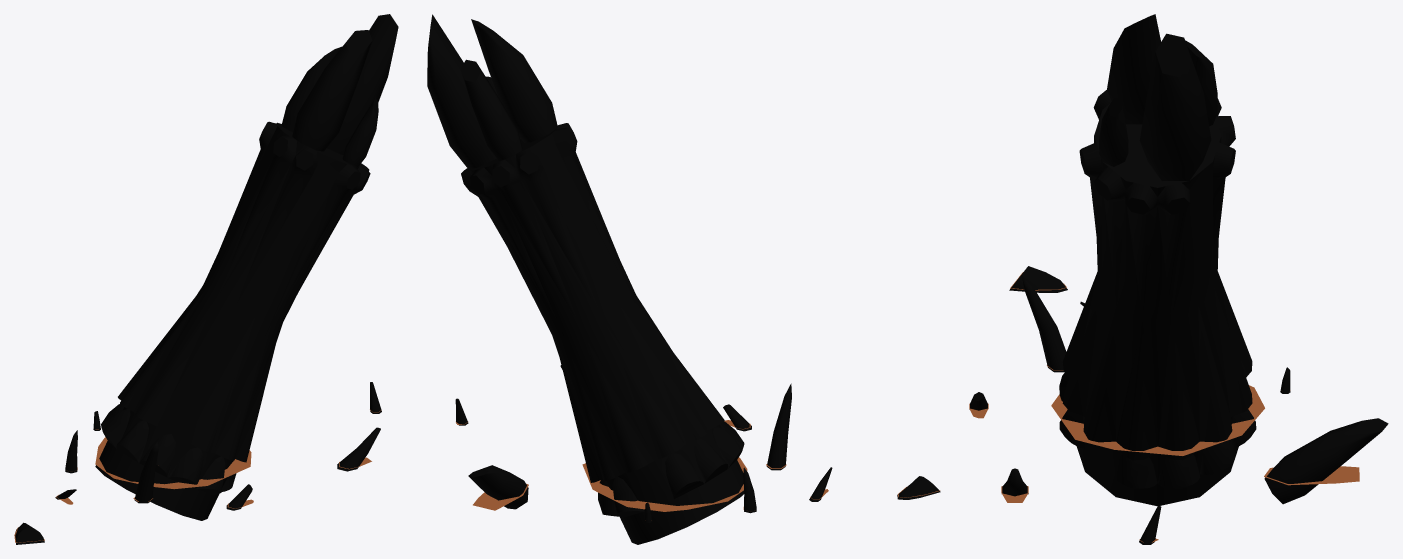
The model's file is pr_ruine_fyros_b.max.fobj.obj.
3 renders of one model, left to right at view 1: azimuth 30°, elevation 25°; view 2: azimuth 150°, elevation 25°; view 3: azimuth 270°, elevation 25°, orthographic. The views are drawn at different scales.
Visible parts, largest first — view 1: PR_Ruine_fyros_B, PR_Ruine_fyros_B_col; view 2: PR_Ruine_fyros_B, PR_Ruine_fyros_B_col; view 3: PR_Ruine_fyros_B, PR_Ruine_fyros_B_col.
Part boxes in pixels (left/top/right/bottom): PR_Ruine_fyros_B: left=15, top=14, right=398, bottom=544; PR_Ruine_fyros_B_col: left=14, top=409, right=381, bottom=542; PR_Ruine_fyros_B: left=427, top=14, right=940, bottom=544; PR_Ruine_fyros_B_col: left=456, top=420, right=940, bottom=511; PR_Ruine_fyros_B: left=969, top=14, right=1388, bottom=544; PR_Ruine_fyros_B_col: left=969, top=272, right=1359, bottom=542.
Size of the model in its own units: 8455 by 8330 by 5269.
